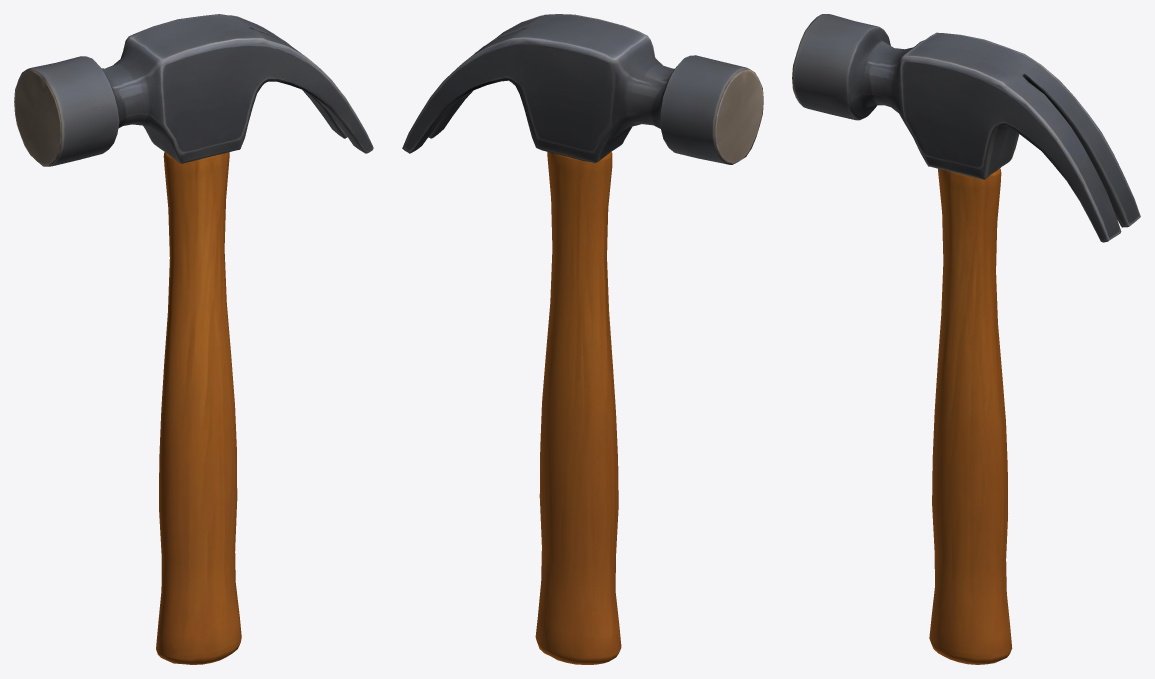
Rendered from construction-hammer.glb.
The picture shows the model from 3 angles, left to right: view 1: azimuth 30°, elevation 25°; view 2: azimuth 150°, elevation 25°; view 3: azimuth 330°, elevation 25°; orthographic projection. The views are drawn at different scales.
Visible parts, largest first — view 1: construction-hammer; view 2: construction-hammer; view 3: construction-hammer.
Part boxes in pixels (x1,y1,x2,y2): construction-hammer: [14, 14, 373, 664]; construction-hammer: [402, 14, 763, 664]; construction-hammer: [792, 14, 1140, 664].
Bounding box in the file's own units: 0.2255 × 0.42 × 0.0592.
Materials: 1 (1 with a texture image).
